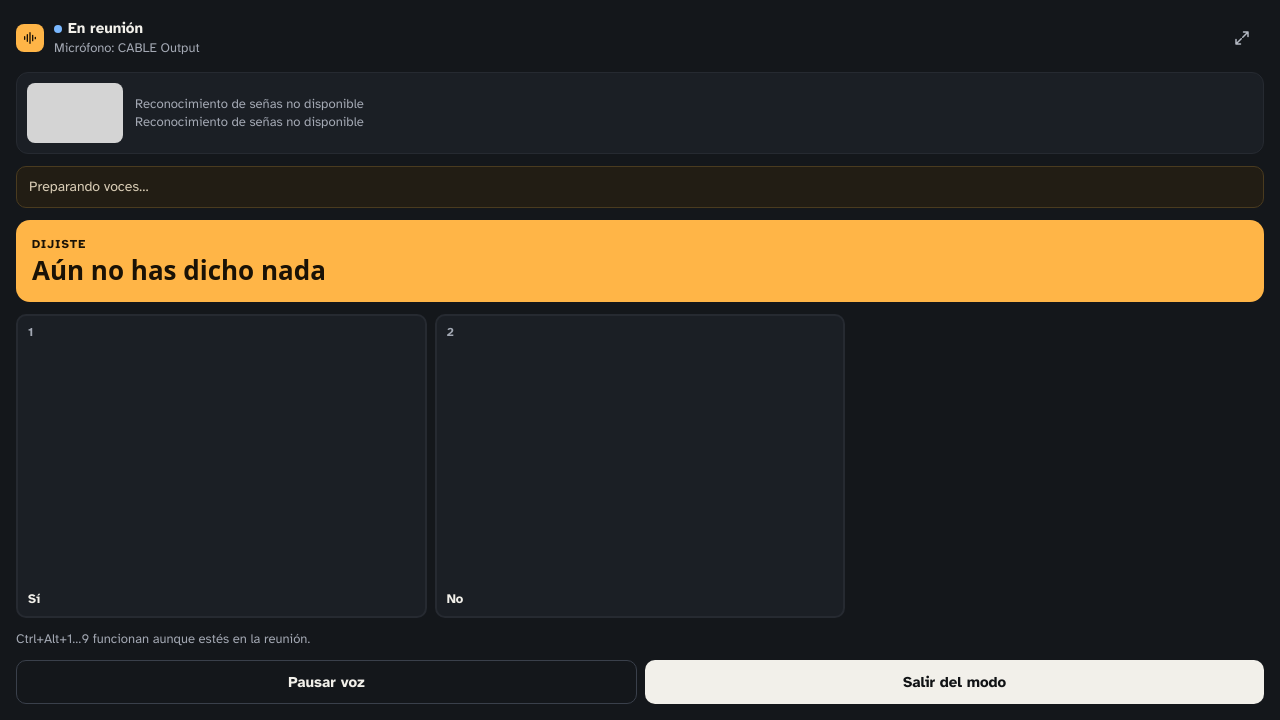
Test case: pantalla de Modo reunión › pausar corta el audio y lo indica
Click the button "Pausar voz": (326, 682) [16,660,637,704]
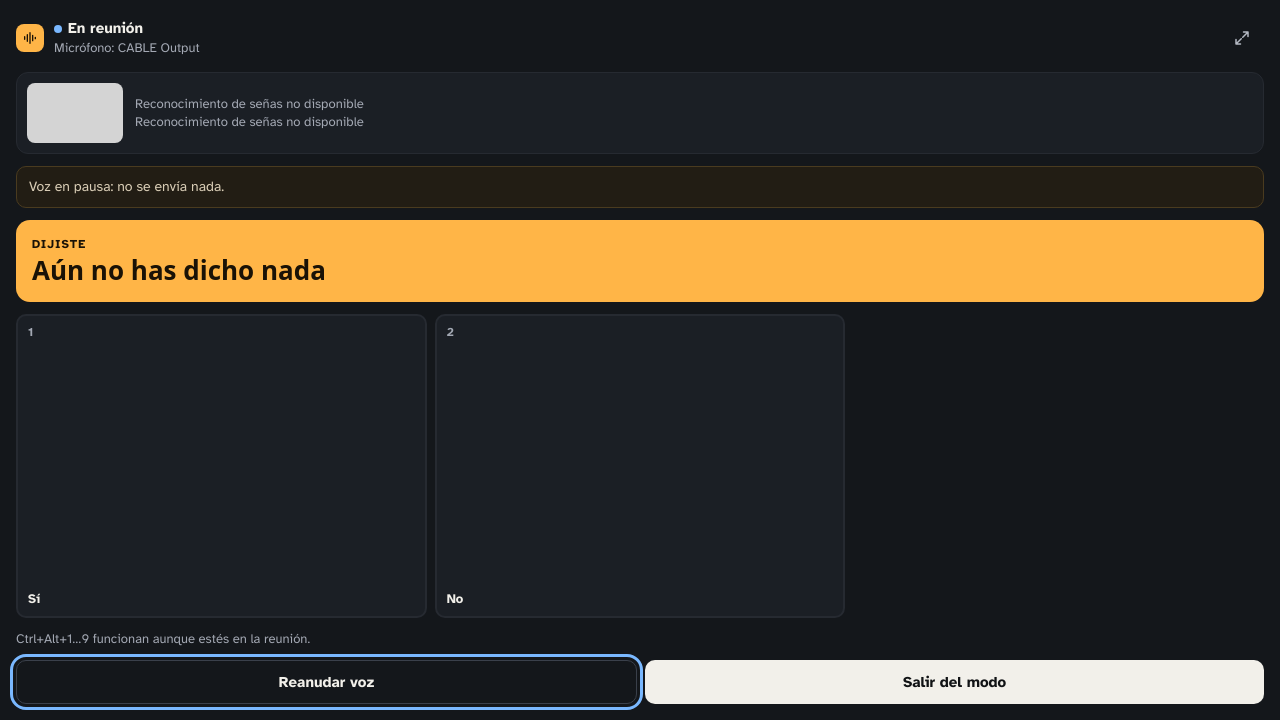
Expected: the text "Voz en pausa: no se envía nada." is shown, [16,166,1264,208]
Expected: the button "Reanudar voz" is shown, [16,660,637,704]
